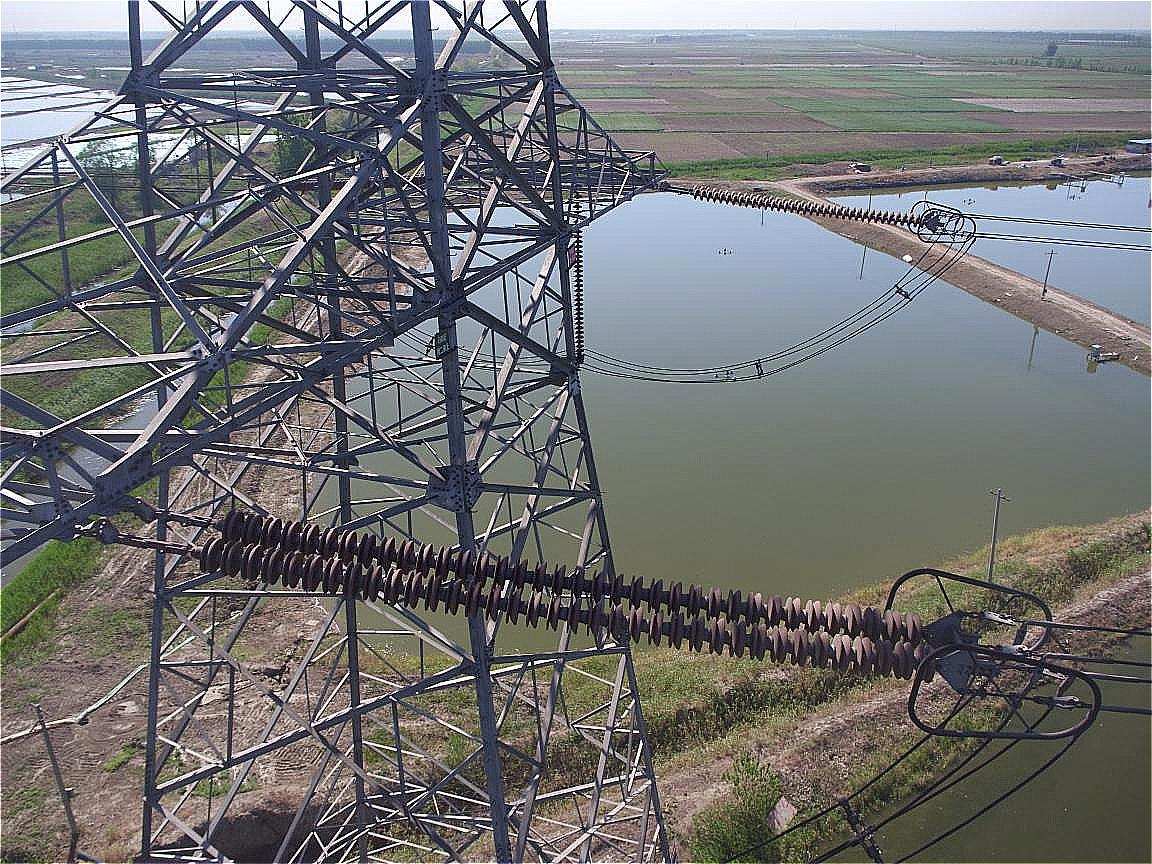insultor2: (166, 497, 953, 688)
